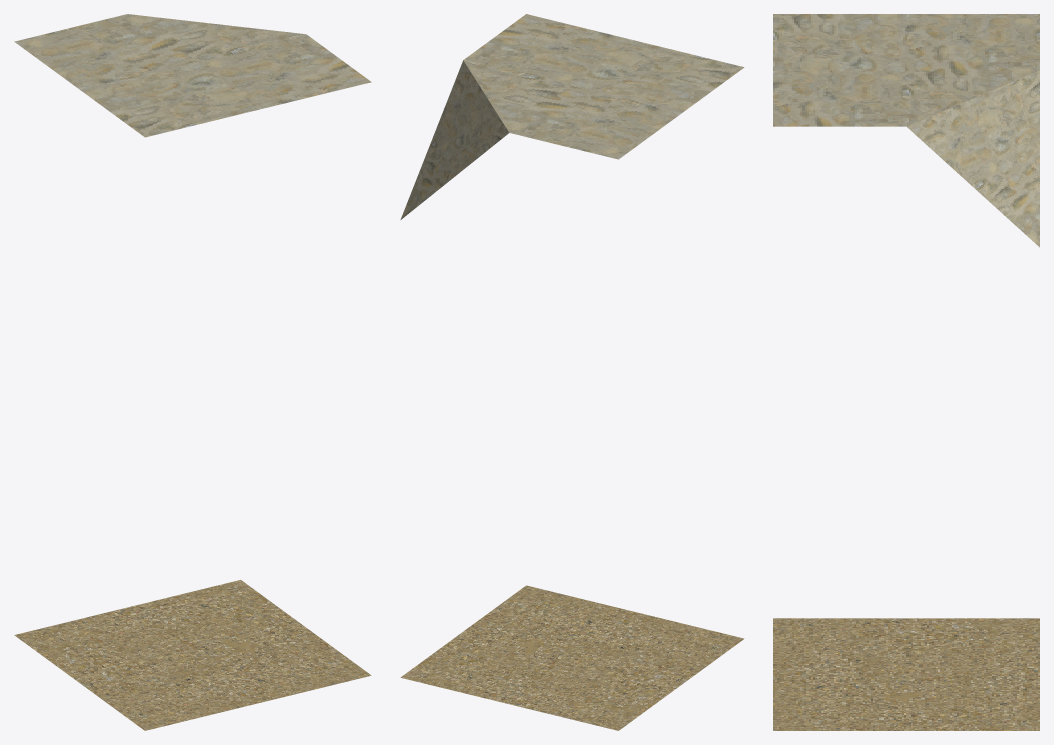
The model's file is wall1.glb.
3 renders of one model, left to right at view 1: azimuth 30°, elevation 25°; view 2: azimuth 150°, elevation 25°; view 3: azimuth 270°, elevation 25°, orthographic. The views are drawn at different scales.
Visible parts, largest first — view 1: wall4-col; view 2: wall4-col; view 3: wall4-col.
Boxes of the visible parts, bbox=[...] form: wall4-col: bbox=[14, 14, 371, 730]; wall4-col: bbox=[400, 14, 744, 730]; wall4-col: bbox=[773, 14, 1039, 730].
Bounding box in the file's own units: 1 × 2.5 × 1.
2 materials, 2 textured.
